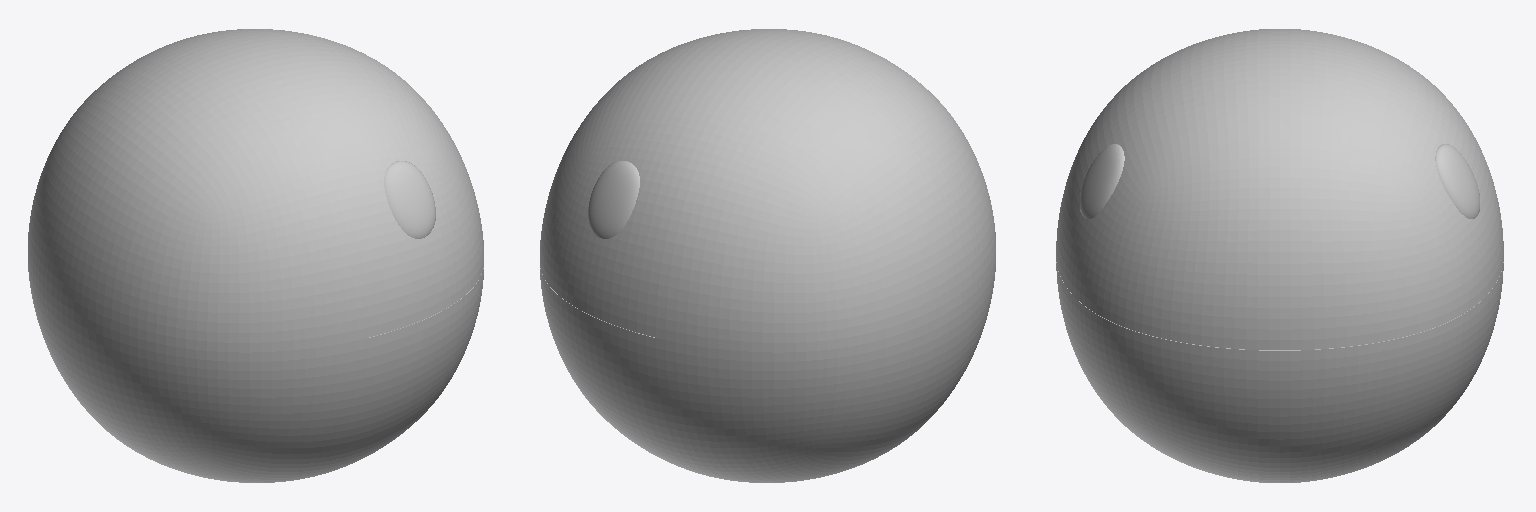
Rendered from pacman_cube_v310.obj.
3 views of the same model, side by side, from view 1: azimuth 30°, elevation 25°; view 2: azimuth 150°, elevation 25°; view 3: azimuth 270°, elevation 25° (orthographic).
Parts seen in each view (by area): view 1: Cube.002, Cube.001; view 2: Cube.002, Cube.001; view 3: Cube.002, Cube.001.
Boxes of the visible parts, box(x1,y1,x2,y2) form: Cube.002: box(28, 29, 483, 482); Cube.001: box(384, 161, 435, 238); Cube.002: box(540, 29, 995, 482); Cube.001: box(588, 161, 639, 238); Cube.002: box(1056, 29, 1503, 482); Cube.001: box(1080, 144, 1479, 218).
Bounding box in the file's own units: 1.95 × 1.95 × 1.95.